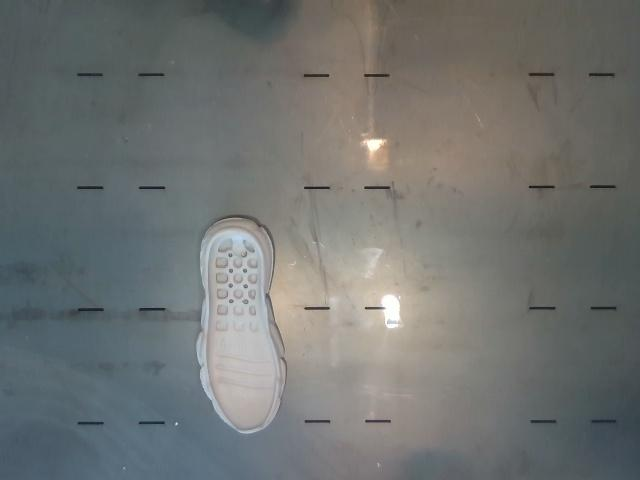shoes: (206, 231, 277, 432)
